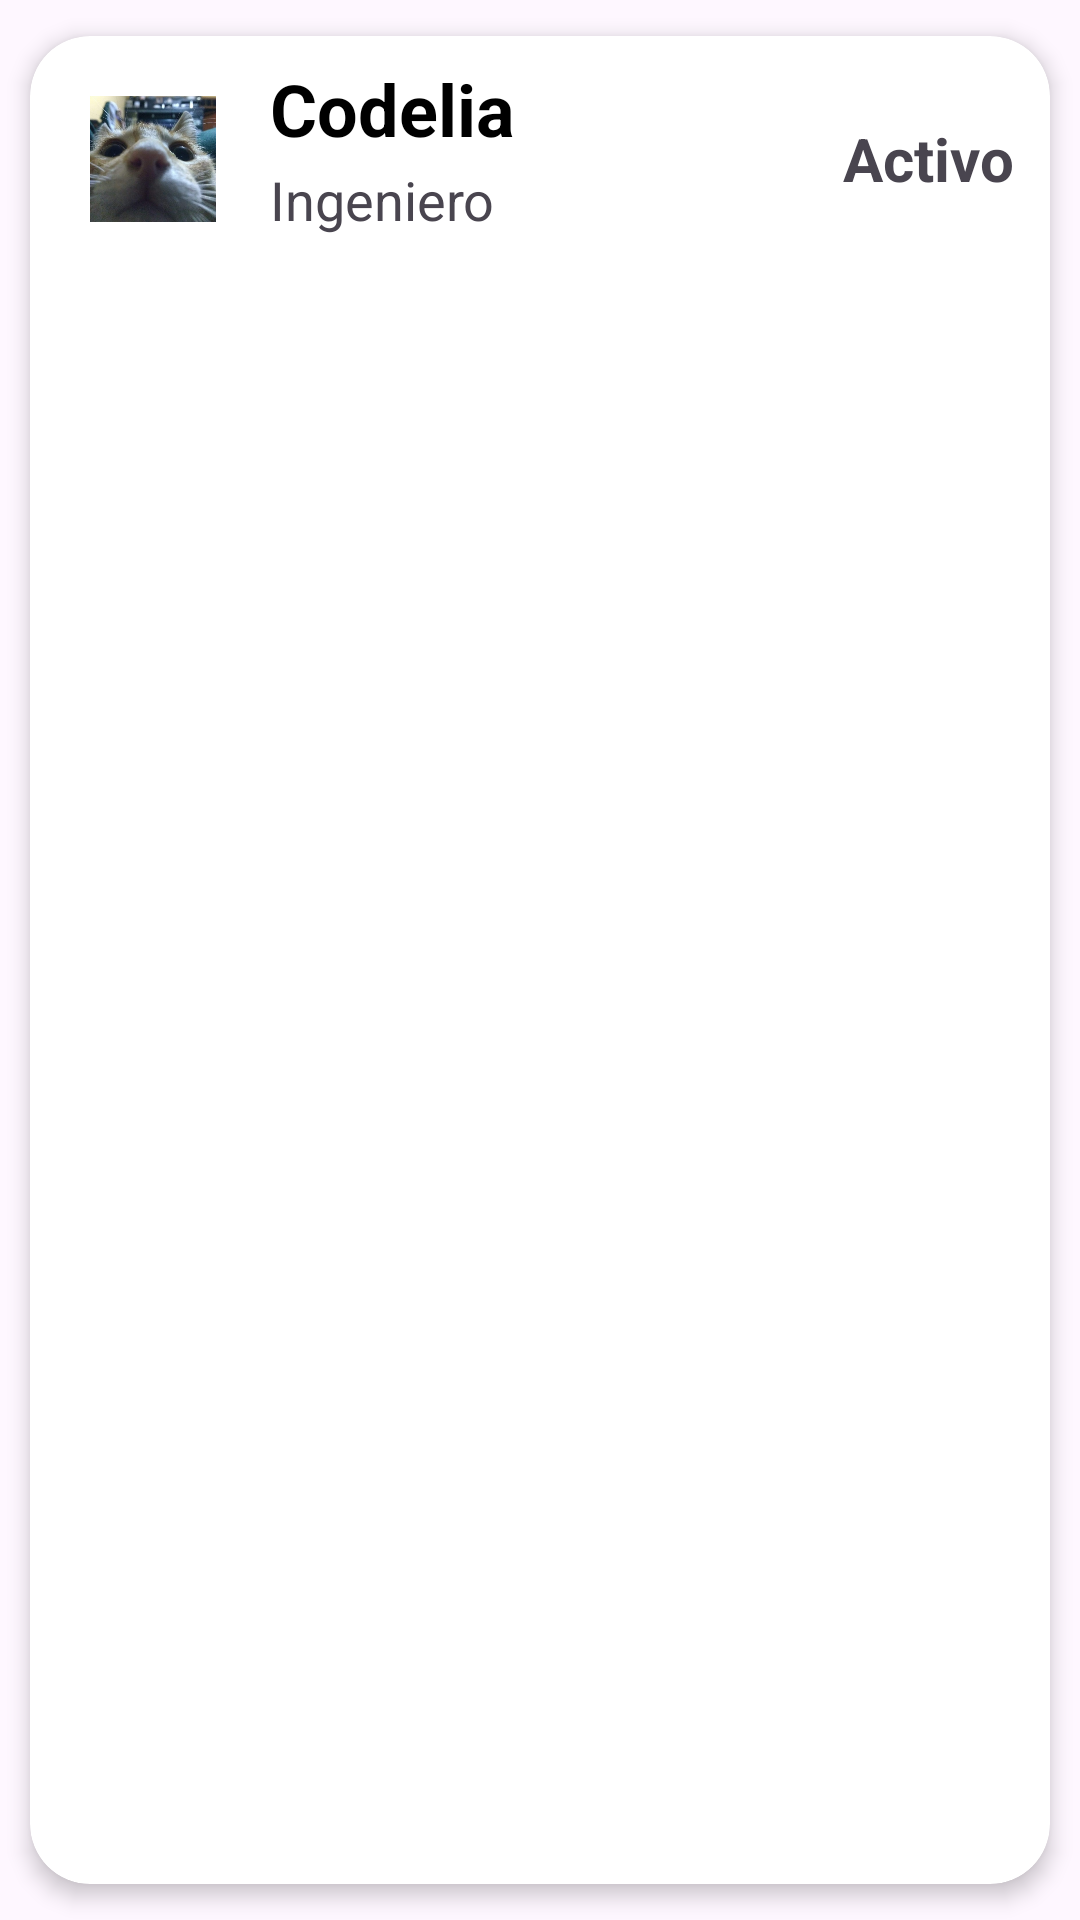

Screen size 1080px×1920px. Icon name, then its center in pixels as [x,y]:
gatoperfil: [153,159]
